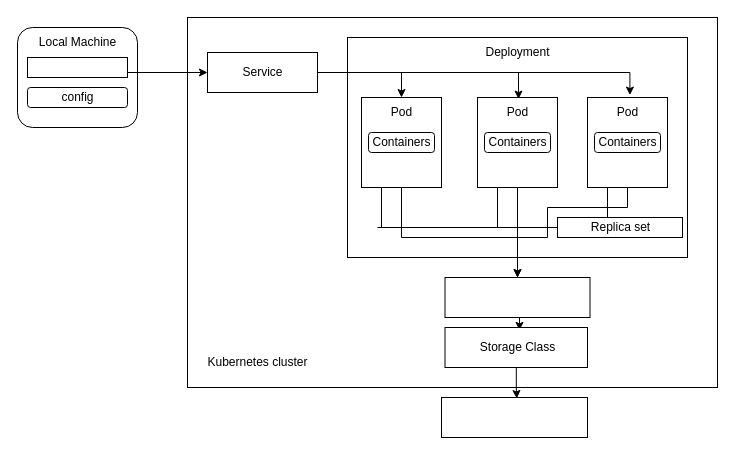
Image size: 735x455. Some labels were removed from this diagram. Each missing label, with the centre of its shape:
External Storage: [514,417]
kubectl: [77,67]
Persistent Volume Claim: [517,297]
